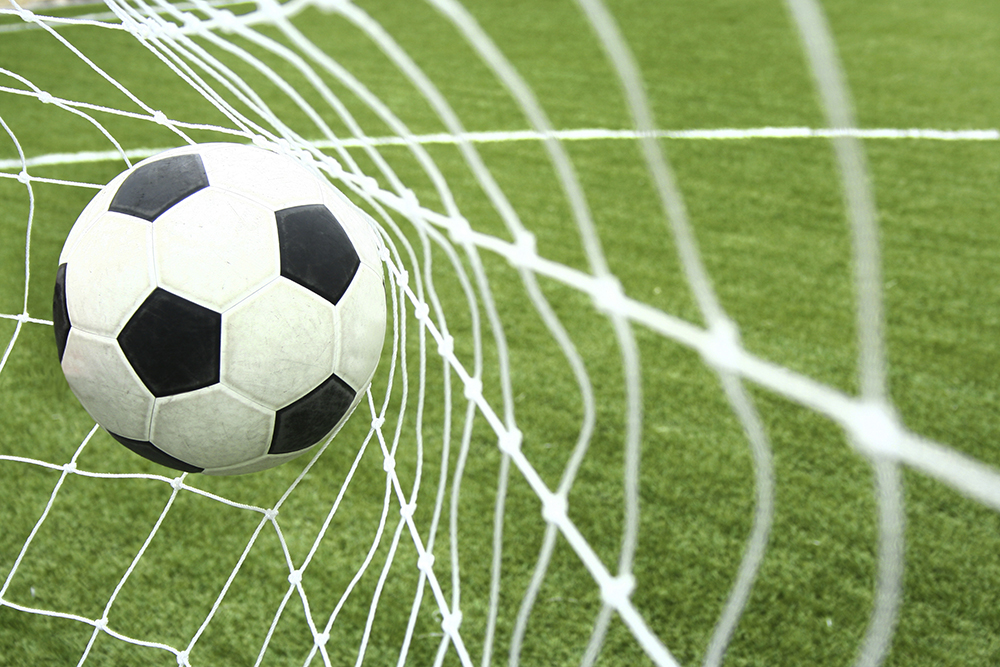football: (51, 137, 391, 471)
